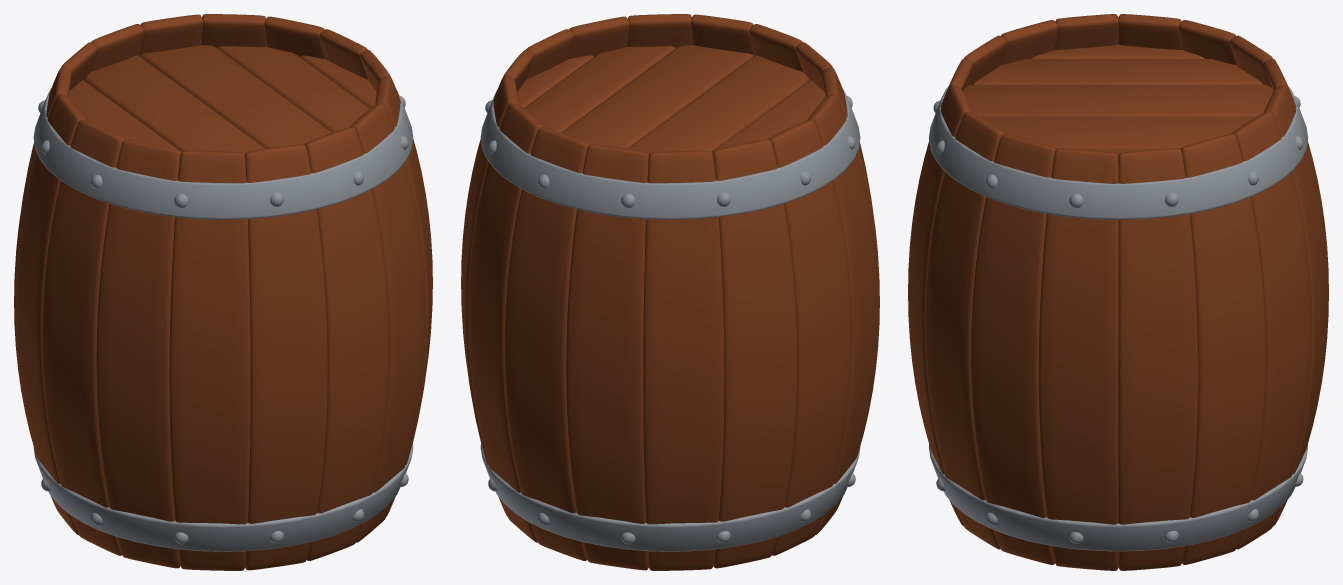
Rendered from tonneau.fbx.
The picture shows the model from 3 angles, left to right: view 1: azimuth 30°, elevation 25°; view 2: azimuth 150°, elevation 25°; view 3: azimuth 270°, elevation 25°; orthographic projection.
Visible parts, largest first — view 1: Sphere, Plane, BézierCircle, Clous haut, Clous bas; view 2: Sphere, Plane, BézierCircle, Clous haut, Clous bas; view 3: Sphere, Plane, BézierCircle, Clous haut, Clous bas.
Part boxes in pixels (<box>): Sphere: <box>14,14,432,570</box>; Plane: <box>68,45,376,153</box>; BézierCircle: <box>33,89,413,551</box>; Clous haut: <box>38,96,408,207</box>; Clous bas: <box>41,473,408,544</box>; Sphere: <box>461,14,879,570</box>; Plane: <box>517,45,825,153</box>; BézierCircle: <box>480,89,860,551</box>; Clous haut: <box>485,96,855,207</box>; Clous bas: <box>488,473,855,544</box>; Sphere: <box>908,14,1328,570</box>; Plane: <box>963,44,1273,153</box>; BézierCircle: <box>929,86,1307,551</box>; Clous haut: <box>933,96,1303,208</box>; Clous bas: <box>936,473,1303,543</box>.
Size of the model in its own units: 111 by 122 by 111.
